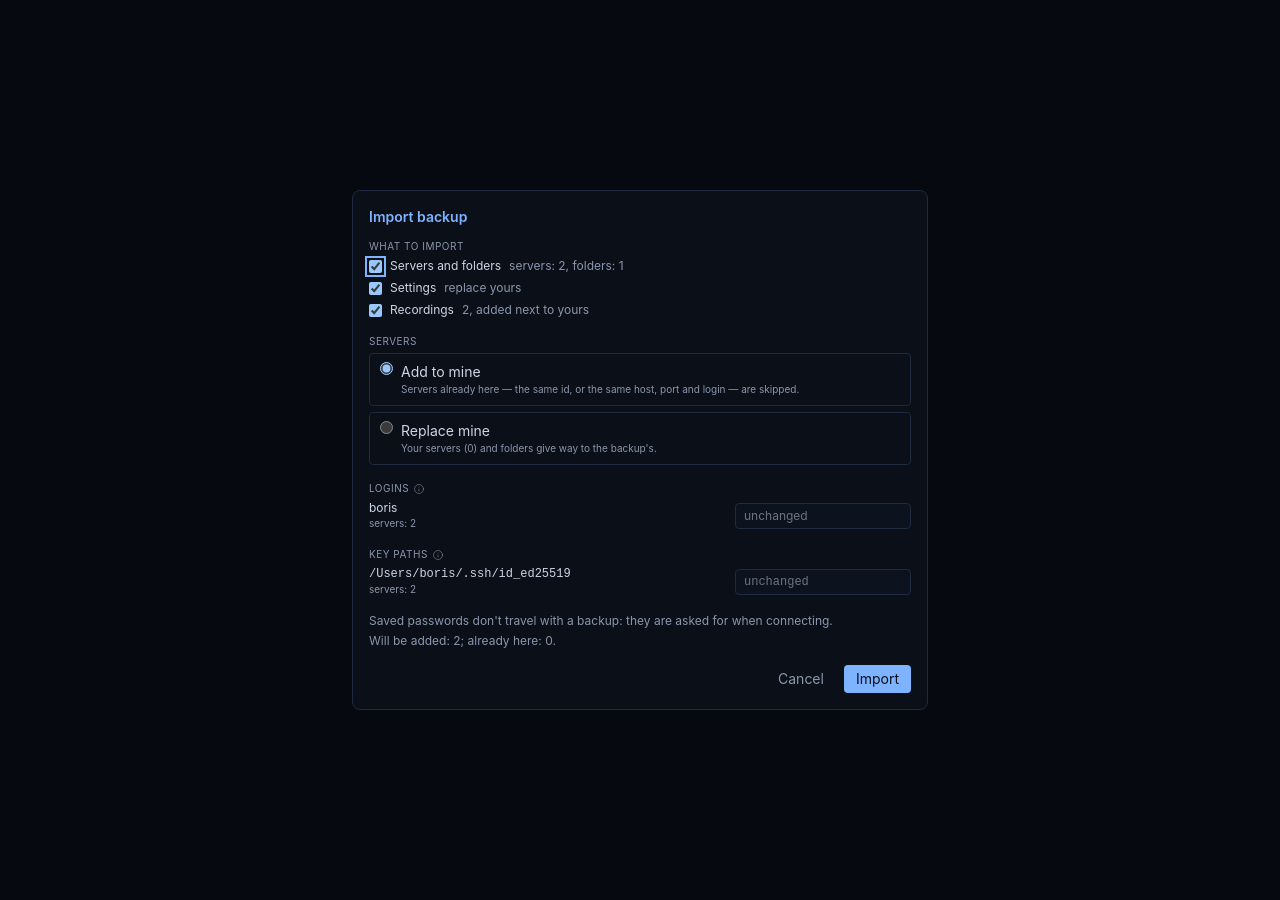
Test: BackupImportDialog › taking only some parts leaves the rest out — and nothing at all cannot be imported
The width and height of the screenshot is (1280, 900).
Click the checkbox with test id "backup-take-servers": (376, 266) top-left (369, 260), bottom-right (382, 272)
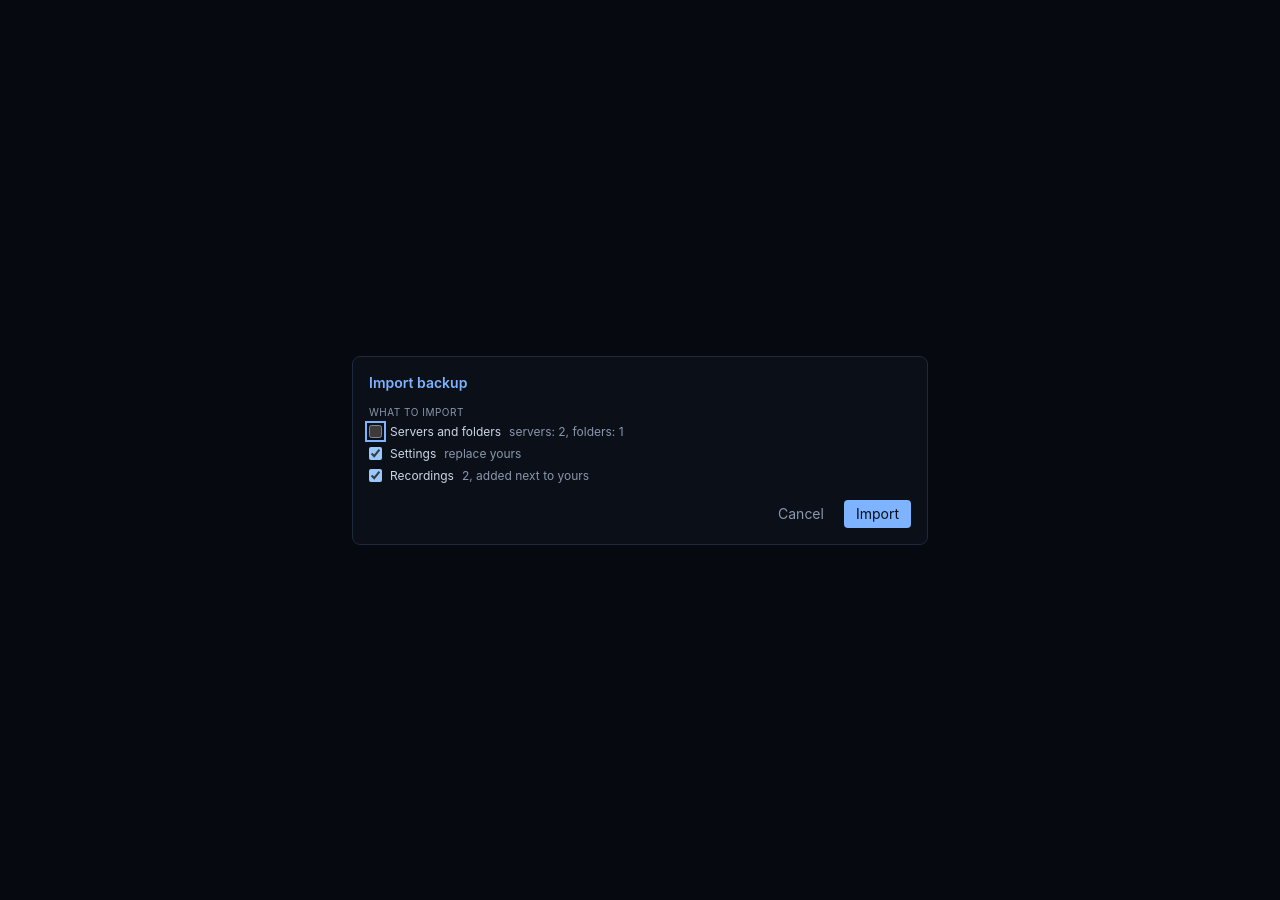
Check: the element with test id "backup-logins" is gone
Click the checkbox with test id "backup-take-recordings": (376, 476) top-left (369, 469), bottom-right (382, 482)
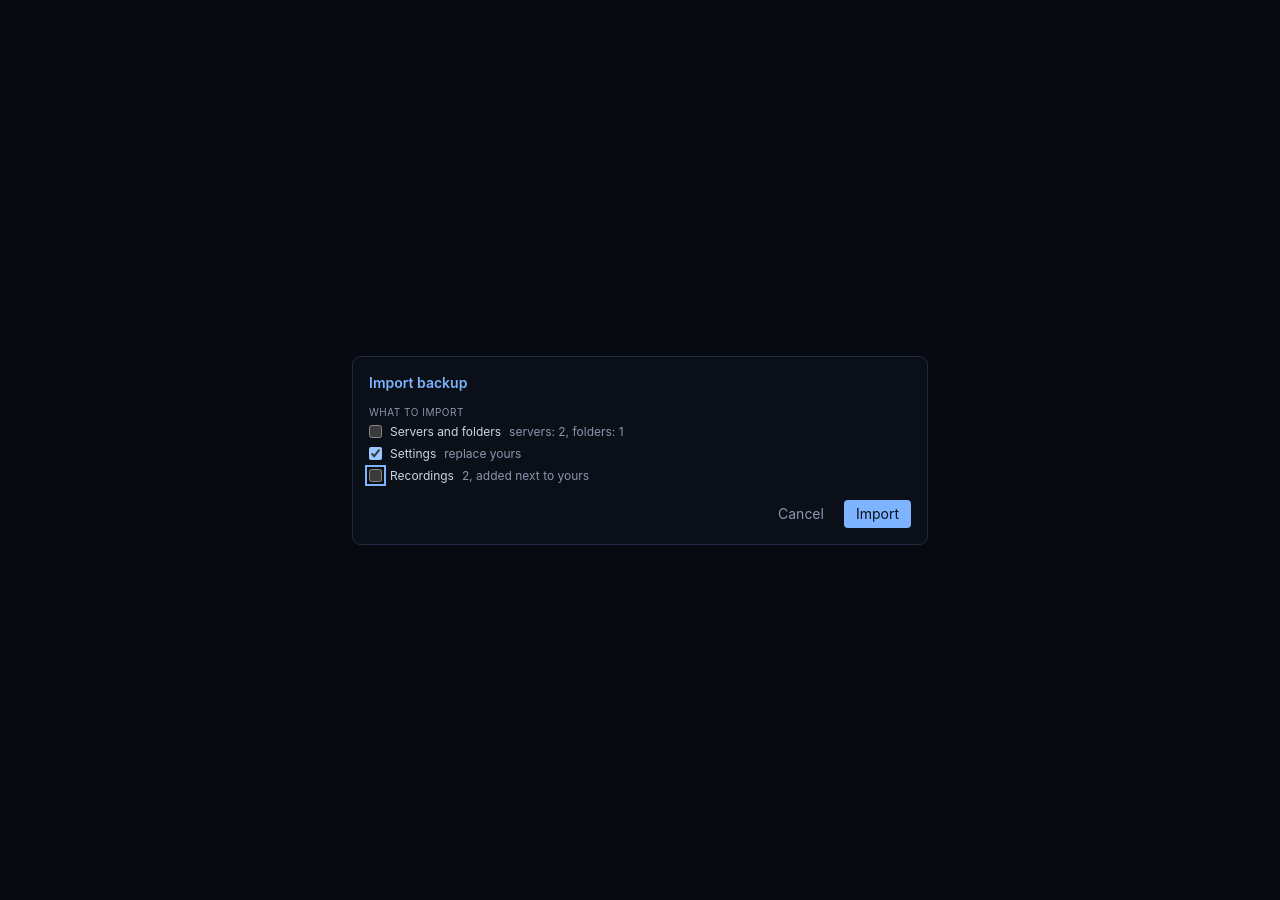
Click the button with test id "backup-import-confirm": (877, 514) top-left (844, 500), bottom-right (911, 528)
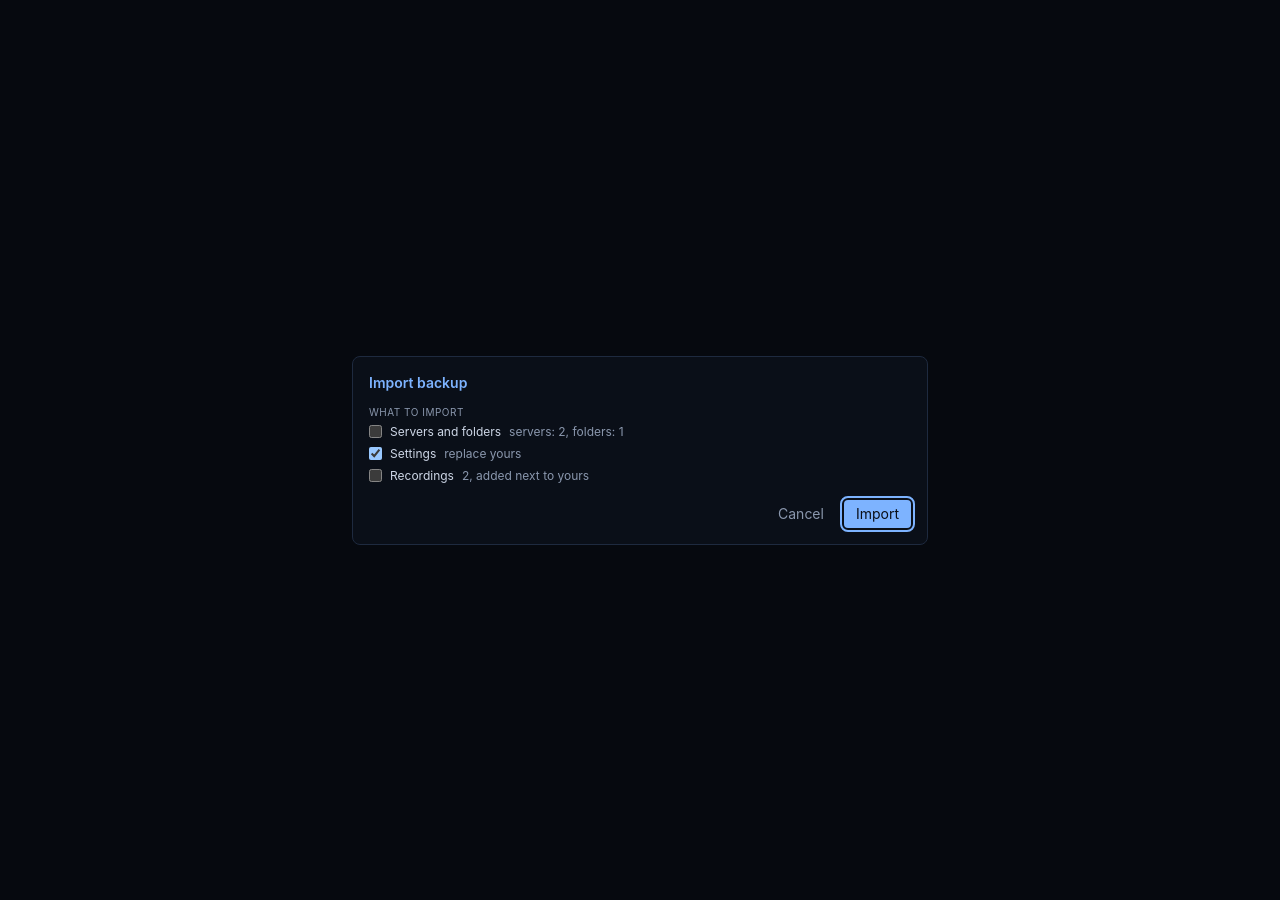
Click the checkbox with test id "backup-take-settings": (376, 454) top-left (369, 447), bottom-right (382, 460)
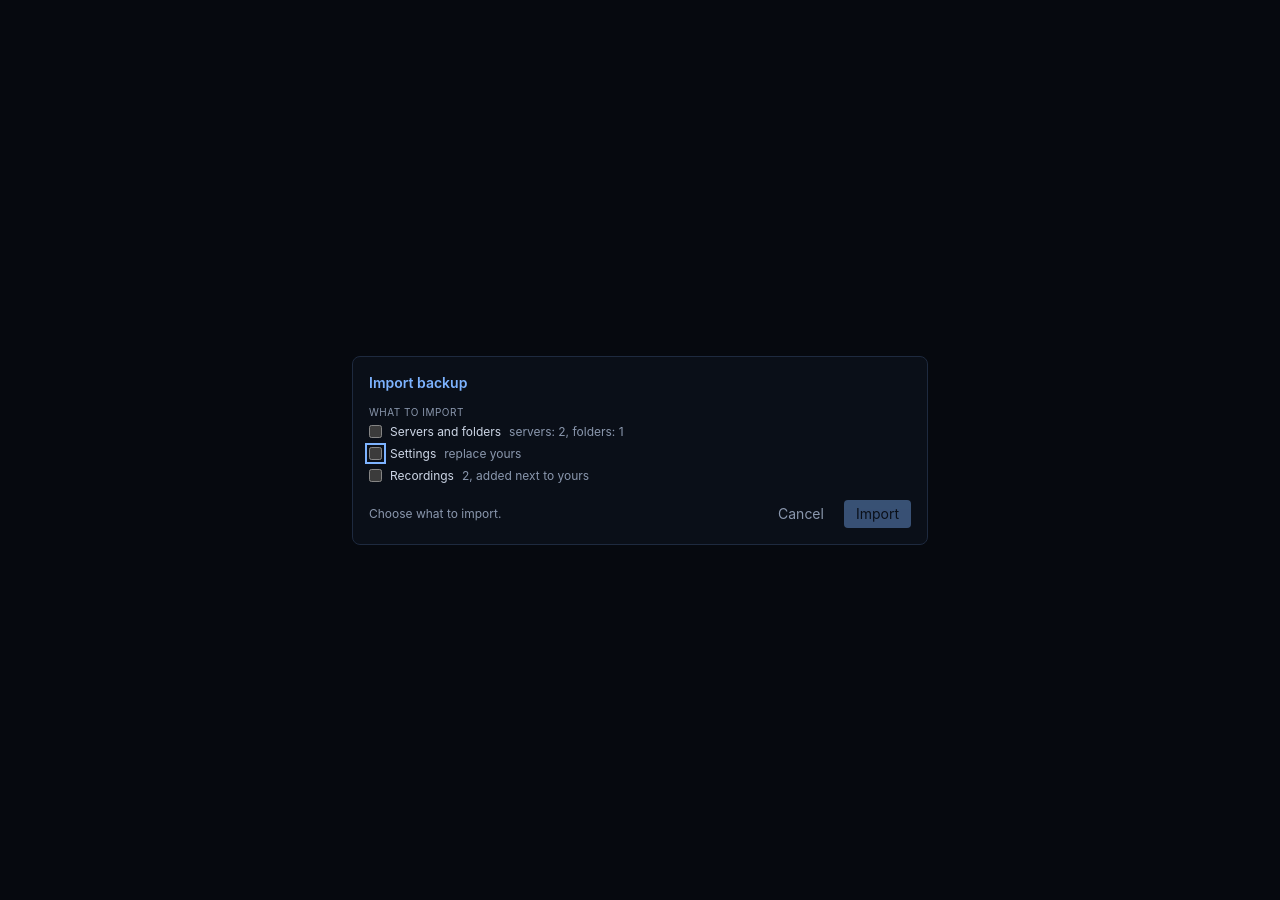
Check: the text with test id "backup-nothing" reads "Choose what to import.", box top-left (369, 506), bottom-right (501, 520)
Check: the button with test id "backup-import-confirm" is disabled, box top-left (844, 500), bottom-right (911, 528)
